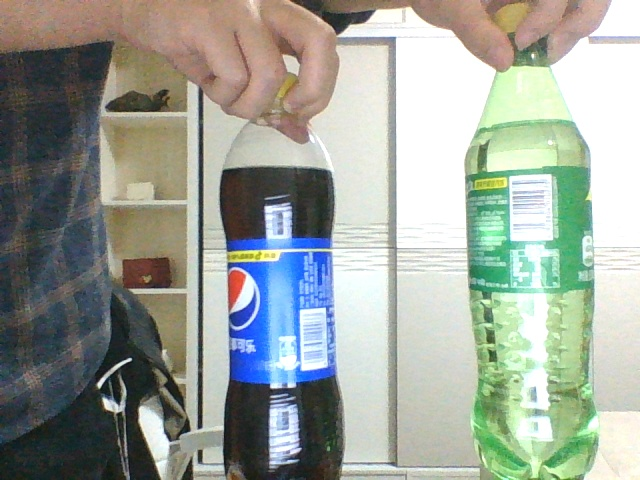Cola: (219, 73, 346, 478)
Sprite: (463, 5, 600, 477)
